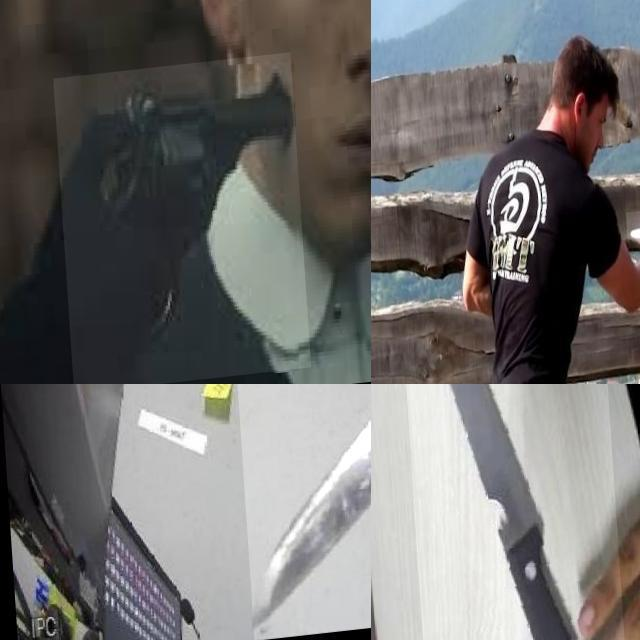-: (399, 384, 628, 640), (227, 384, 371, 640), (621, 218, 640, 260)
gun-knife-thesis - v11 Yolov5 augmented: (49, 61, 302, 384)
